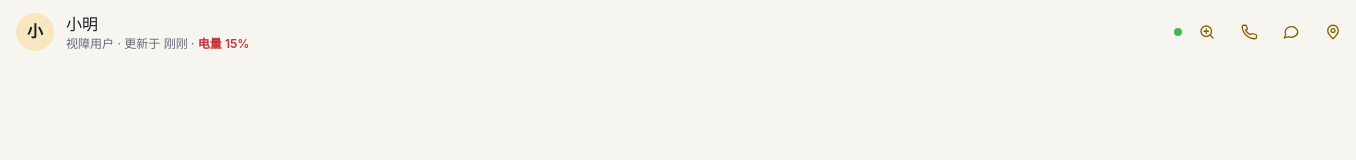
SharingContactRow 共享位置联系人行（定位/呼叫/发消息） › 查看地址：点击→逆地理成文字街道地址并显示（读屏 aria-live 可闻）；带 AOI 时附"在X一带"
Click the button named "查看 小明 所在地址" at (1207,32), box [1190,15,1224,49]
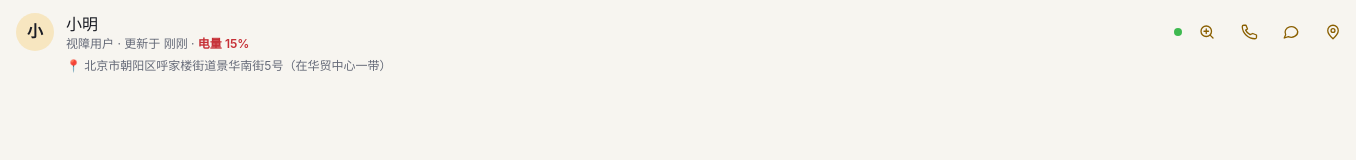
Now the text "华贸中心" is shown, box [84,58,391,73]
